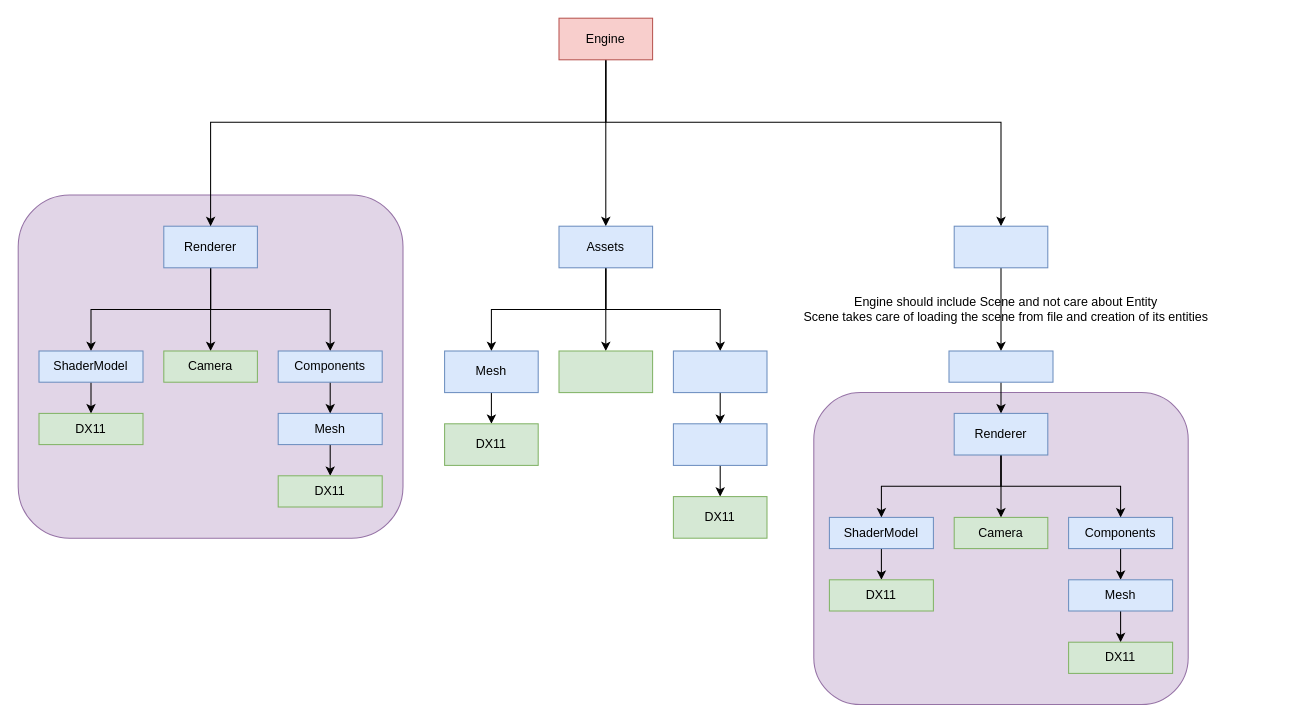
The diagram is 1295 pixels wide and 723 high, and some of its shapes have lost their labels. The shapes that lost their labels are listed below. From the top down, each one's centre as x and y in pixels, then its label:
At point 1000,246: "Entity".
At point 605,371: "Importer".
At point 719,371: "Material".
At point 1000,366: "Scene".
At point 719,444: "Texture".
